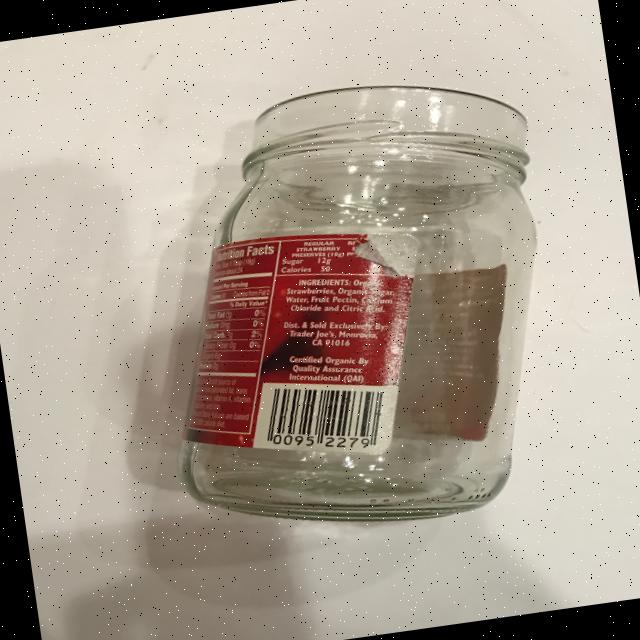glass: (134, 70, 570, 544)
